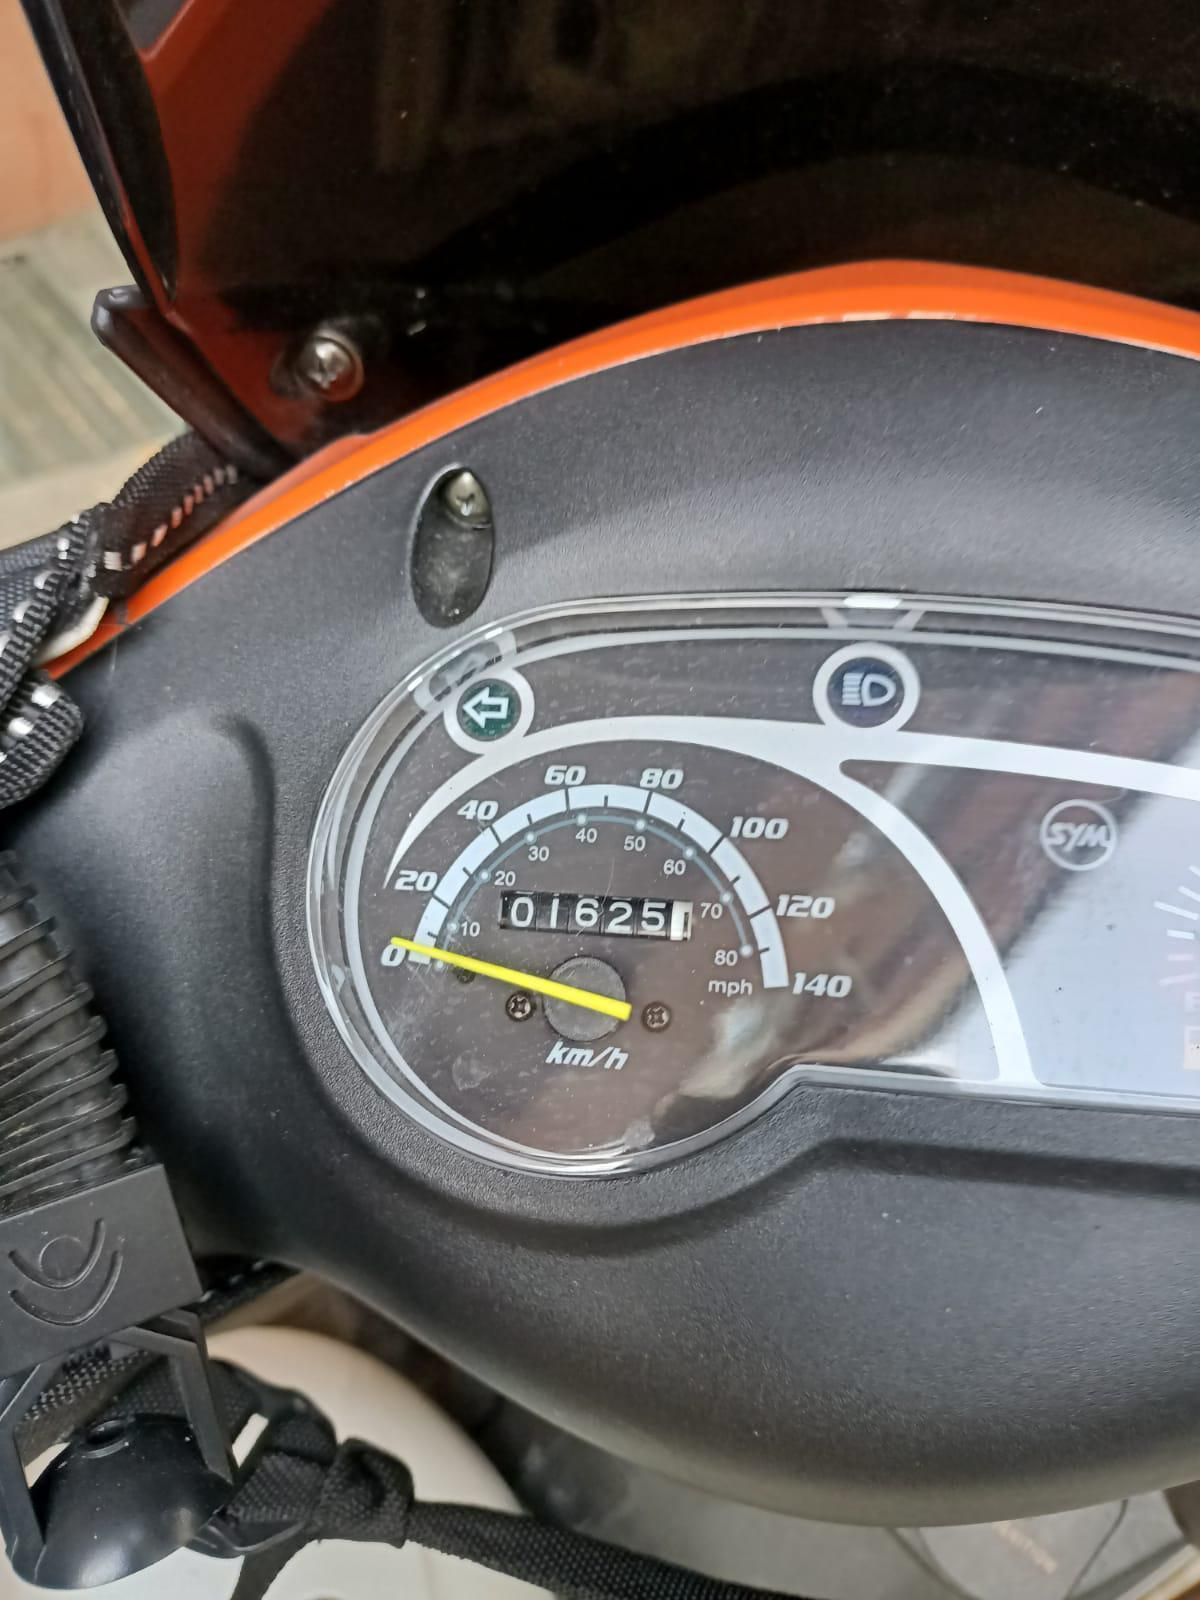0: (508, 894, 533, 926)
1: (678, 907, 693, 944), (546, 894, 561, 929)
2: (608, 900, 632, 934)
5: (642, 900, 668, 931)
6: (574, 896, 600, 926)
odometer: (495, 888, 698, 947)
